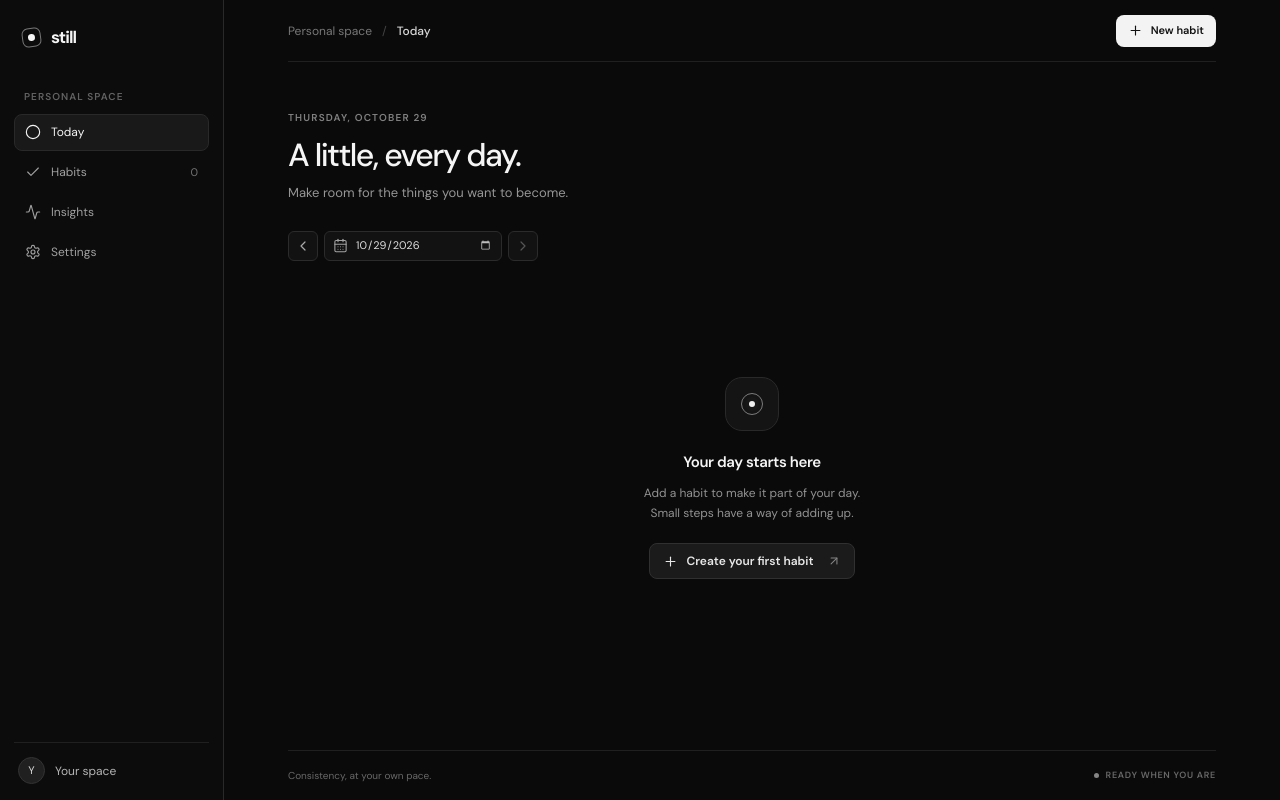
Test case: habit management › opens an individual insight view by stable habit ID and returns to the prior page
Click the button "Create your first habit" at (752, 561), box [650,543,855,579]
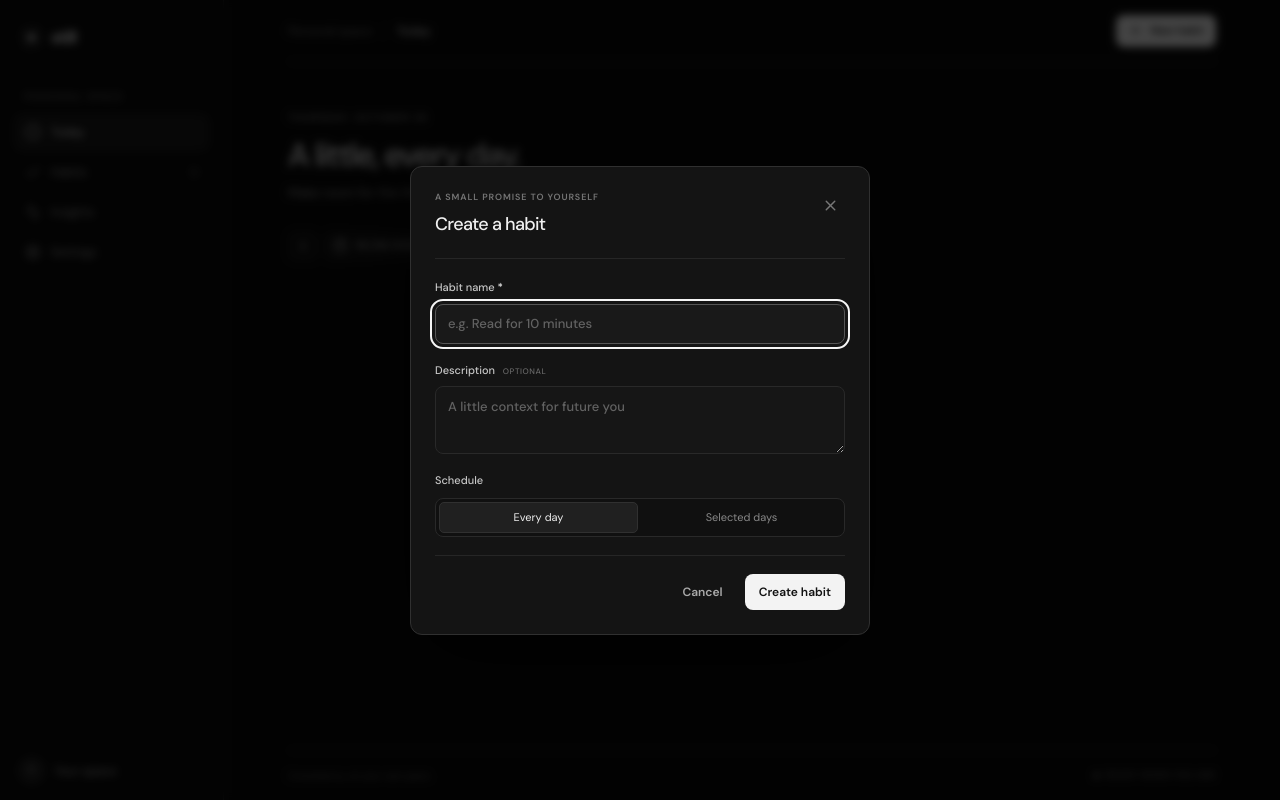
Type "Read nightly" into the field with placeholder "e.g. Read for 10 minutes" at (640, 324), box [435,304,845,344]
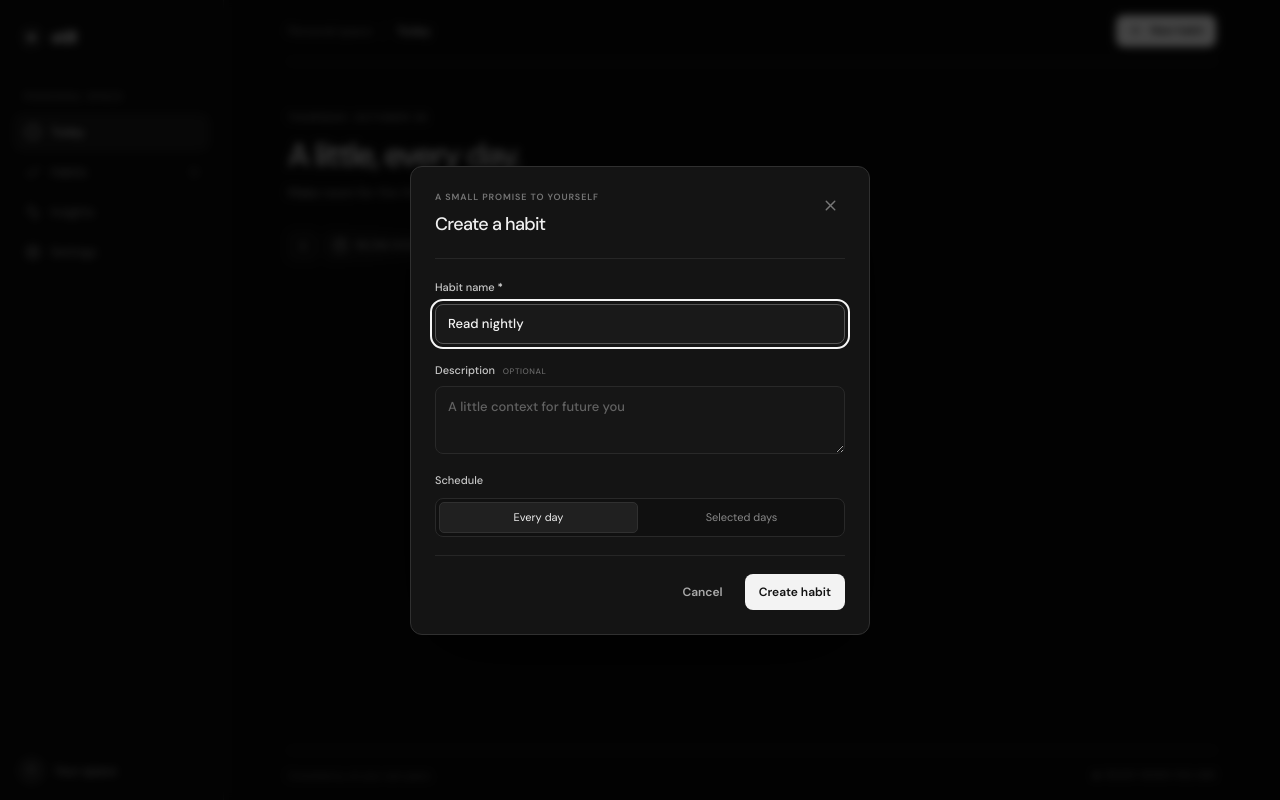
Click the button "Create habit" at (795, 592), box [745,574,845,610]
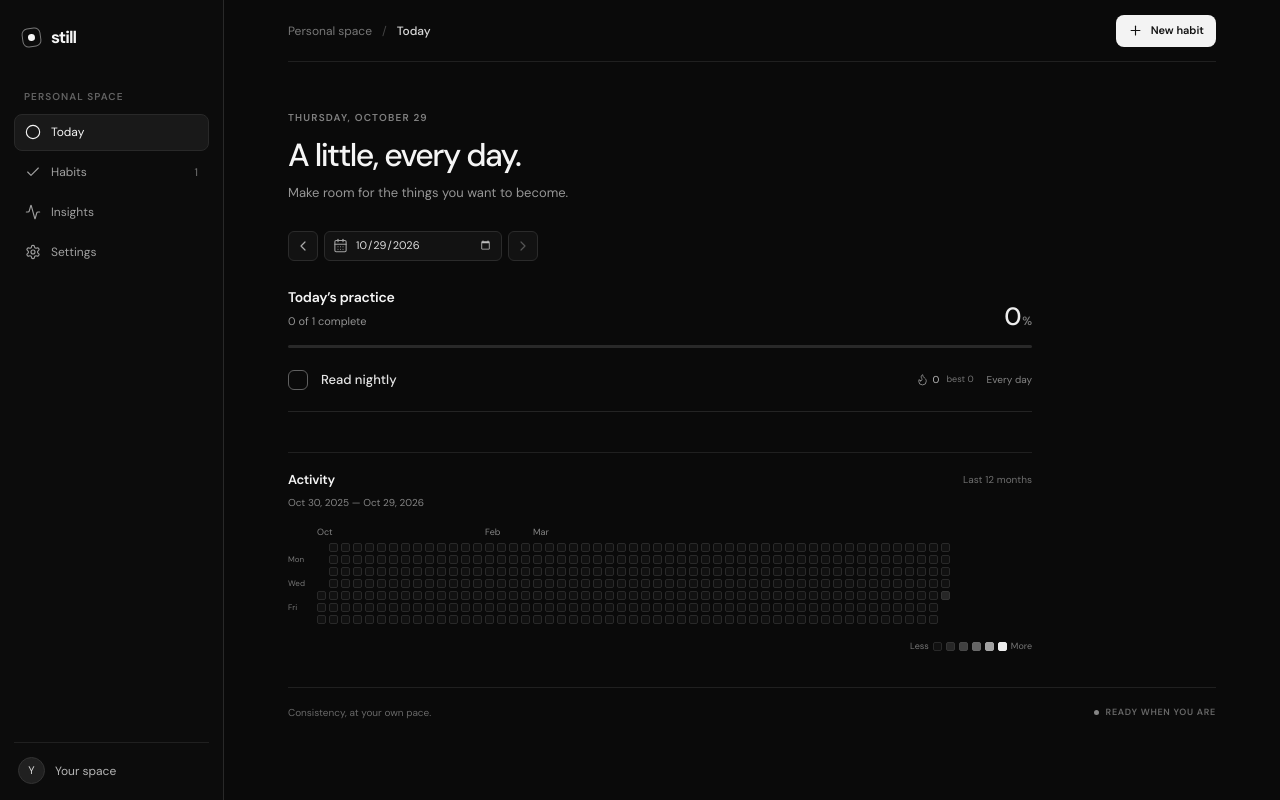
Click the button with aria-label "View details for Read nightly" at (359, 379), box [321,370,903,389]
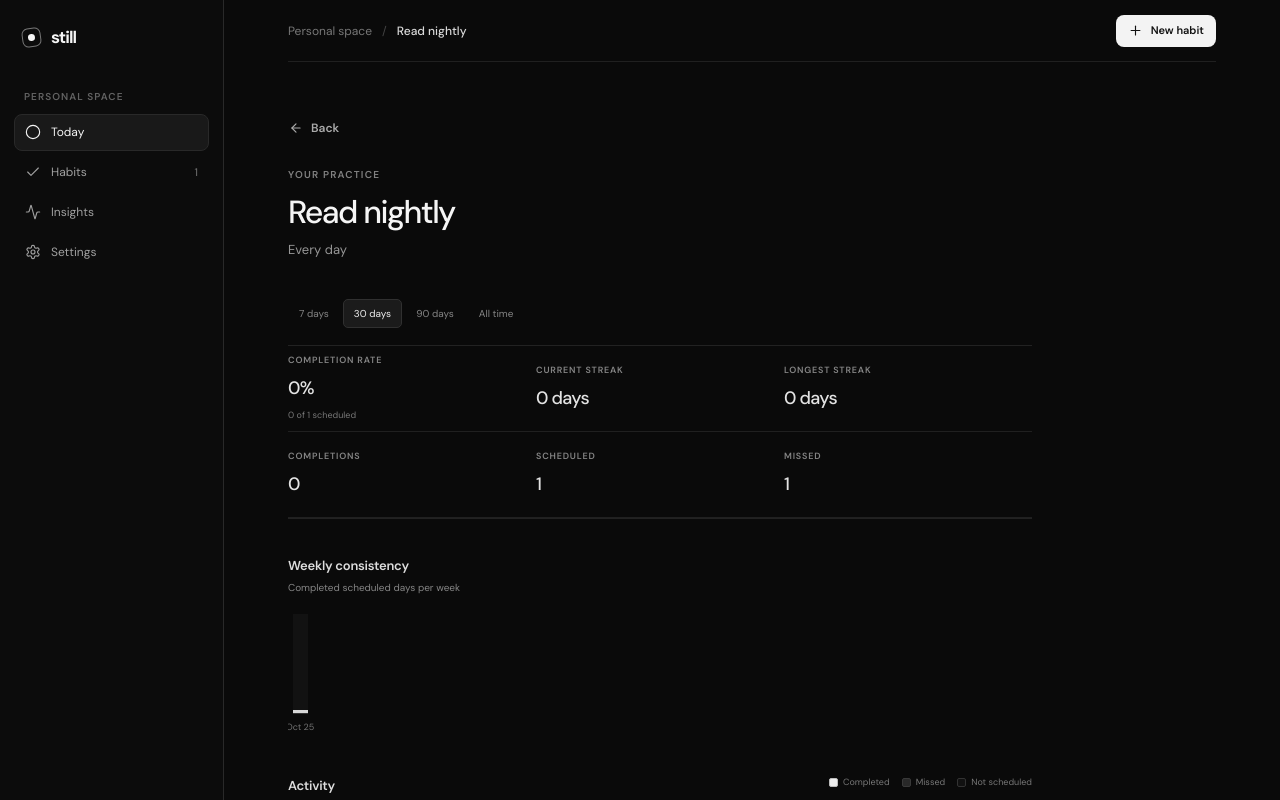
expect the heading "Read nightly" is shown: met, box [288,191,455,233]
expect the heading "Weekly consistency" is shown: met, box [288,556,409,574]
Click the button "Back" at (321, 128), box [288,110,353,146]
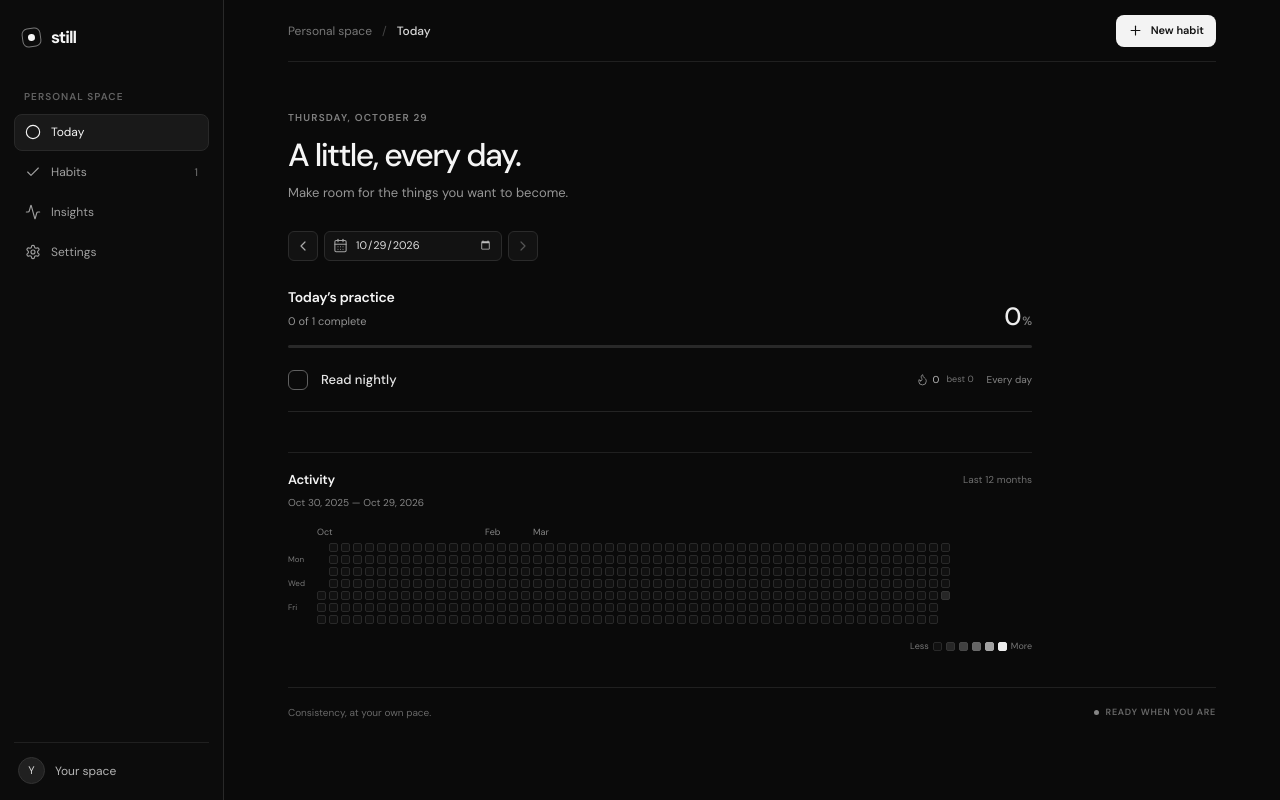
expect the heading "A little, every day." is shown: met, box [288,134,520,176]
